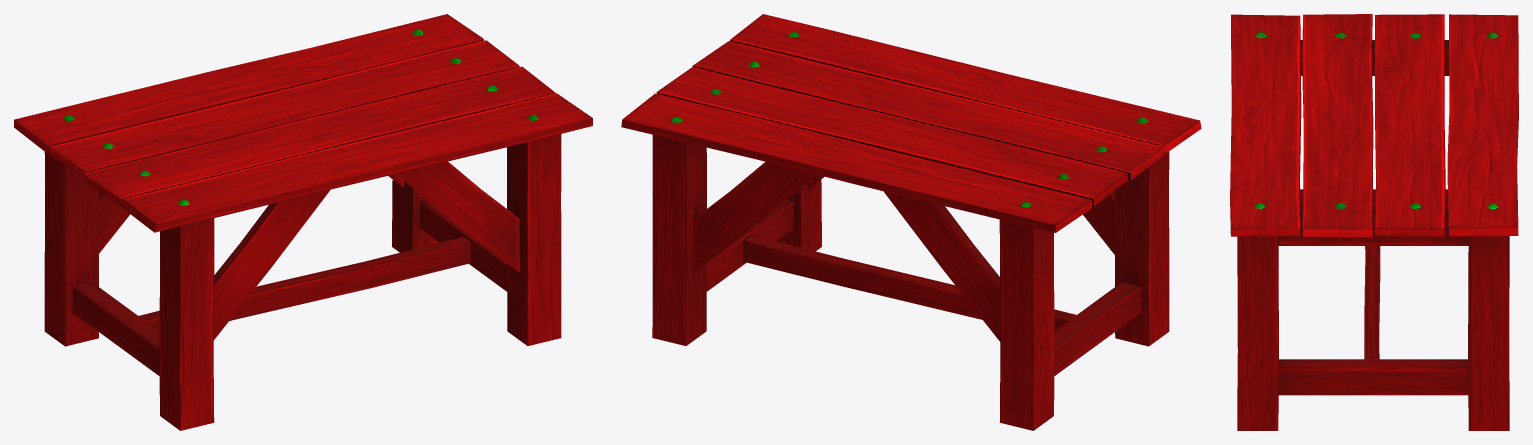
File: Table01.fbx
3 renders of one model, left to right at view 1: azimuth 30°, elevation 25°; view 2: azimuth 150°, elevation 25°; view 3: azimuth 270°, elevation 25°, orthographic.
Parts seen in each view (by area): view 1: Table01_LOD0; view 2: Table01_LOD0; view 3: Table01_LOD0.
Boxes of the visible parts, x1=… form: Table01_LOD0: x1=14, y1=14, x2=592, y2=430; Table01_LOD0: x1=621, y1=14, x2=1201, y2=430; Table01_LOD0: x1=1230, y1=14, x2=1518, y2=430.
Size of what is drawn, in the model's own units: 1.33 by 0.6264 by 0.7512.
